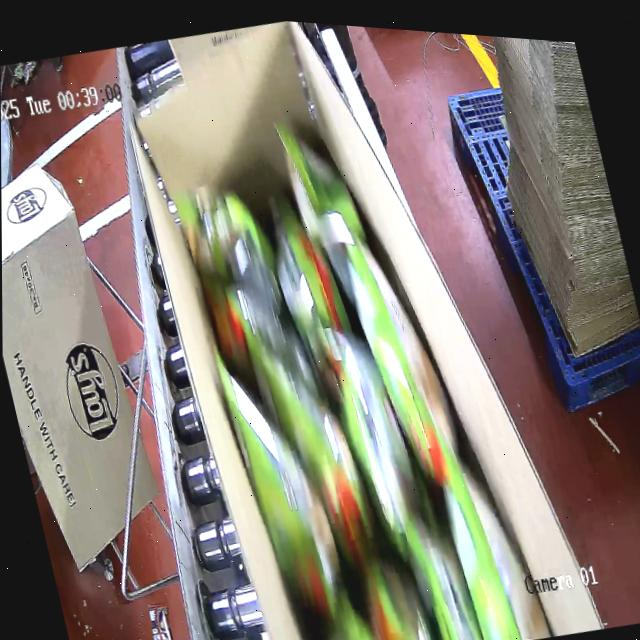YOGURT_HERB: (169, 138, 530, 640)
